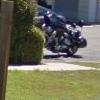Motorcycle: (36, 4, 91, 61)
